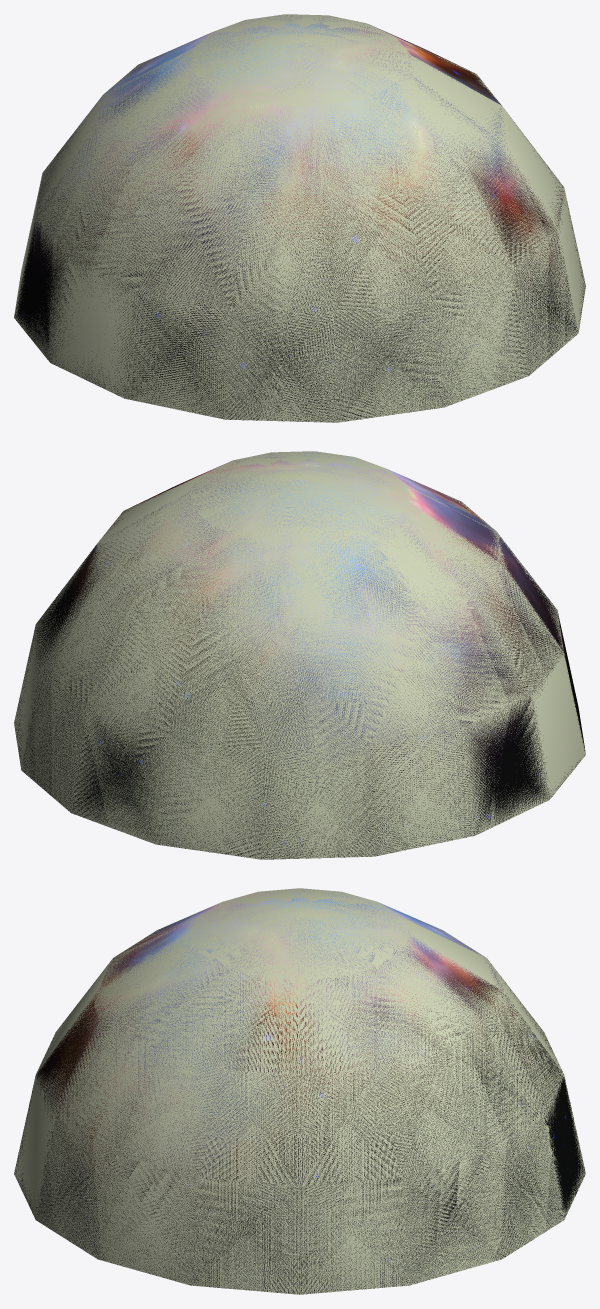
Rendered from skybox.obj.
The picture shows the model from 3 angles, top to bottom: view 1: azimuth 30°, elevation 25°; view 2: azimuth 150°, elevation 25°; view 3: azimuth 270°, elevation 25°; orthographic projection.
Visible parts, largest first — view 1: skyBox_default, skyBox_skyBox; view 2: skyBox_default, skyBox_skyBox; view 3: skyBox_default, skyBox_skyBox.
Boxes of the visible parts, left/top/right/bottom form: skyBox_default: left=14, top=14, right=585, bottom=422; skyBox_skyBox: left=14, top=14, right=585, bottom=422; skyBox_default: left=14, top=451, right=585, bottom=859; skyBox_skyBox: left=14, top=451, right=585, bottom=859; skyBox_default: left=14, top=888, right=585, bottom=1294; skyBox_skyBox: left=14, top=888, right=584, bottom=1294.
Size of the model in its own units: 200 by 100 by 200.
